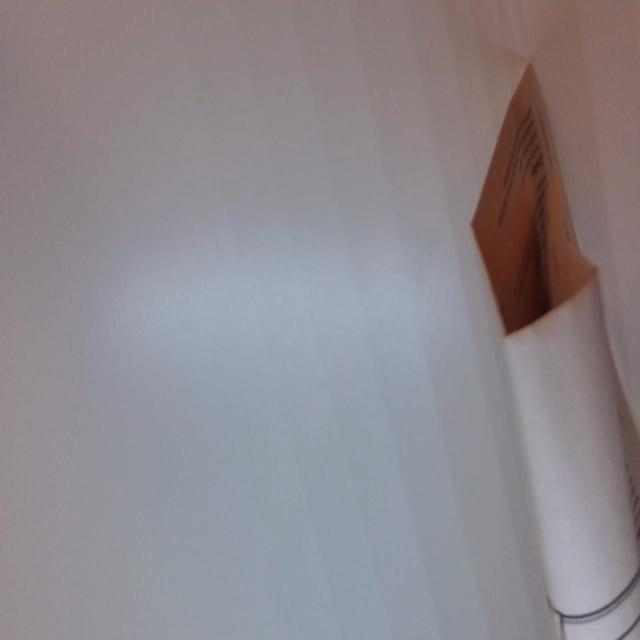Paper: (470, 73, 640, 640)
